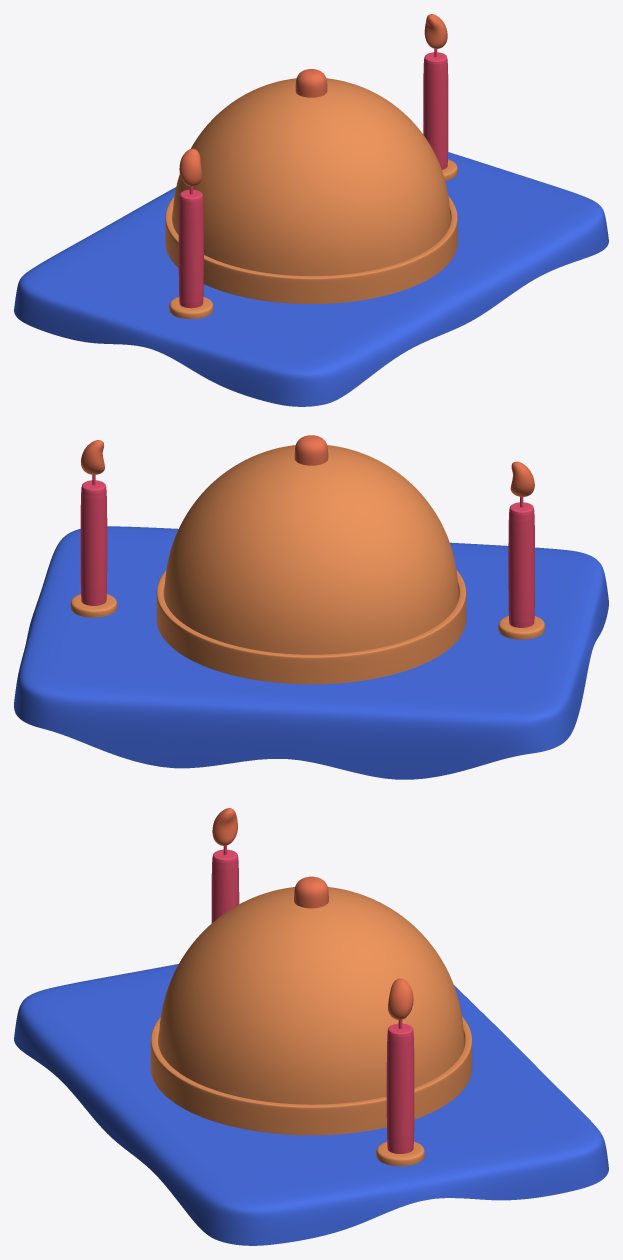
File: restaurant-date-3d-animated-icons-1123535073658.glb
3 renders of one model, top to bottom at view 1: azimuth 30°, elevation 25°; view 2: azimuth 150°, elevation 25°; view 3: azimuth 270°, elevation 25°, orthographic. The views are drawn at different scales.
Visible parts, largest first — view 1: tablecloth, dish cover, candy 1.002, candy 2.002, fire 1, fire 2, candy 1; view 2: tablecloth, dish cover, candy 2.002, candy 1.002, candy 2, candy 1, fire 1, fire 2; view 3: tablecloth, dish cover, candy 2.002, candy 1.002, fire 2, fire 1, candy 2.
Part boxes in pixels (left/top/right/bottom): tablecloth: left=14, top=152, right=608, bottom=406; dish cover: left=165, top=69, right=457, bottom=304; candy 1.002: left=178, top=189, right=203, bottom=308; candy 2.002: left=423, top=52, right=448, bottom=169; fire 1: left=179, top=148, right=202, bottom=186; fire 2: left=424, top=14, right=447, bottom=48; candy 1: left=169, top=297, right=213, bottom=319; tablecloth: left=14, top=526, right=608, bottom=779; dish cover: left=156, top=435, right=466, bottom=684; candy 2.002: left=80, top=480, right=107, bottom=605; candy 1.002: left=508, top=502, right=534, bottom=627; candy 2: left=70, top=594, right=117, bottom=617; candy 1: left=498, top=616, right=545, bottom=639; fire 1: left=510, top=461, right=534, bottom=496; fire 2: left=81, top=440, right=104, bottom=474; tablecloth: left=14, top=964, right=608, bottom=1245; dish cover: left=150, top=876, right=472, bottom=1135; candy 2.002: left=386, top=1023, right=414, bottom=1153; candy 1.002: left=211, top=849, right=239, bottom=922; fire 2: left=388, top=978, right=413, bottom=1019; fire 1: left=212, top=808, right=237, bottom=845; candy 2: left=376, top=1141, right=424, bottom=1166.
Bounding box in the file's own units: 2.97 × 1.25 × 2.63.
